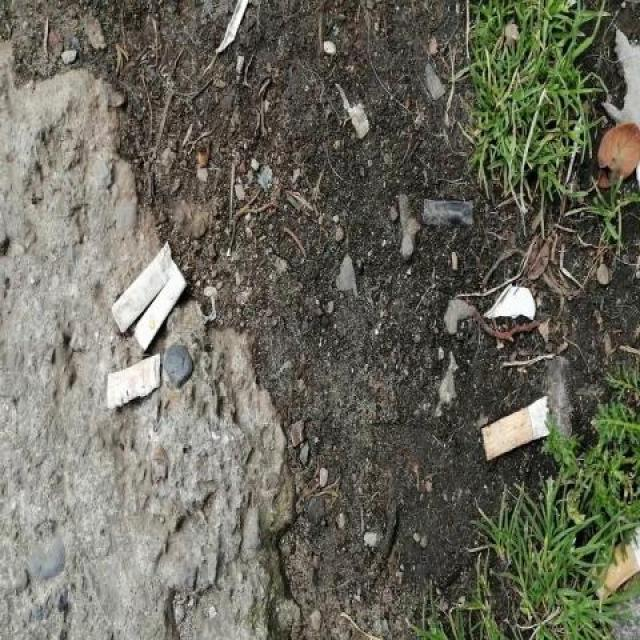non-organic waste: (111, 240, 173, 337), (477, 392, 555, 467), (133, 263, 191, 352), (586, 517, 640, 607), (102, 350, 170, 418)
